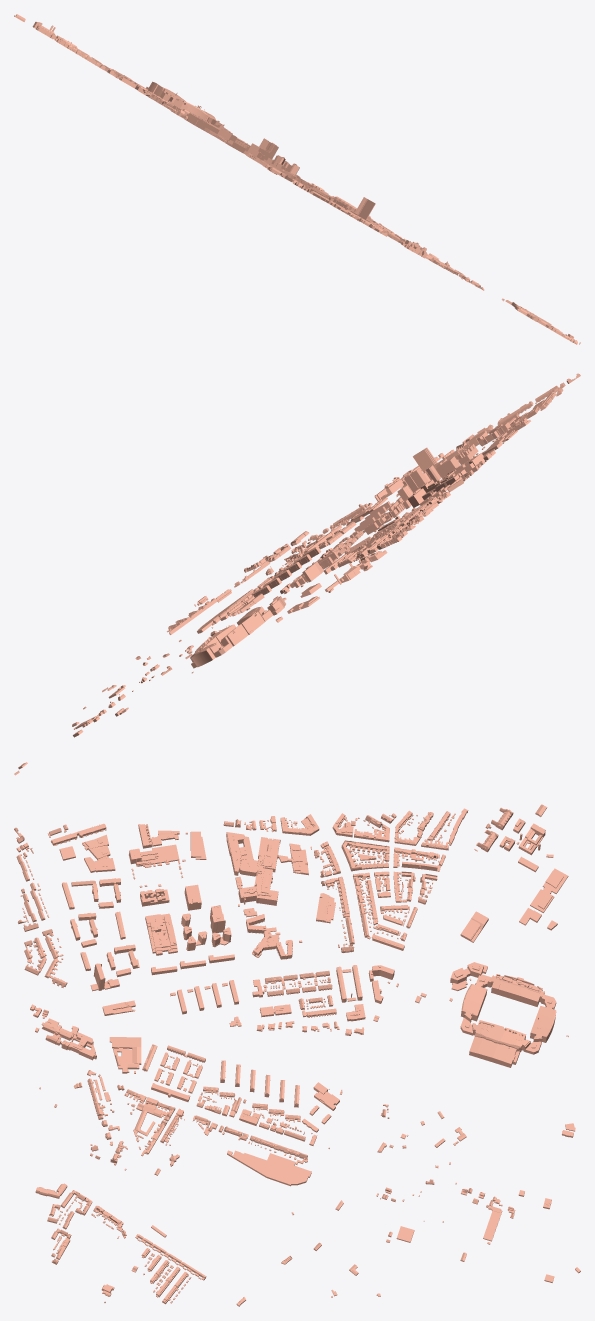
3 views of the same model, one above another, from view 1: azimuth 30°, elevation 25°; view 2: azimuth 150°, elevation 25°; view 3: azimuth 270°, elevation 25° (orthographic). The views are drawn at different scales.
Size of the model in its own units: 1046 by 758 by 1263.
